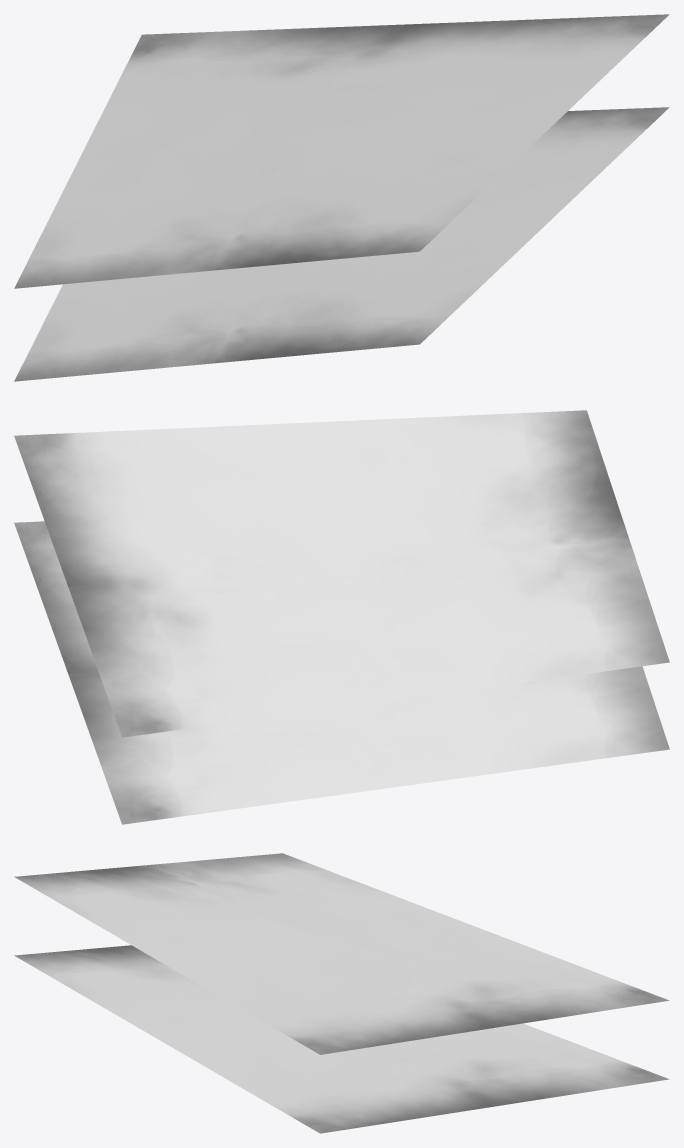
The model's file is CourseWinter_CurveFloor_7_4.fbx.
3 renders of one model, top to bottom at view 1: azimuth 30°, elevation 25°; view 2: azimuth 150°, elevation 25°; view 3: azimuth 270°, elevation 25°, orthographic. The views are drawn at different scales.
Visible parts, largest first — view 1: polySurface698; view 2: polySurface698; view 3: polySurface698.
Boxes of the visible parts, x1,y1,x2,y2 form: polySurface698: [14, 14, 669, 381]; polySurface698: [14, 410, 669, 824]; polySurface698: [14, 853, 669, 1133].
Bounding box in the file's own units: 7.64 × 2 × 7.55.
1 material, 1 textured.
